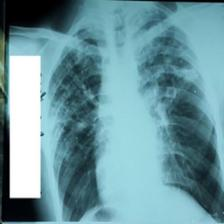tuberculosis: (43, 9, 224, 224)
